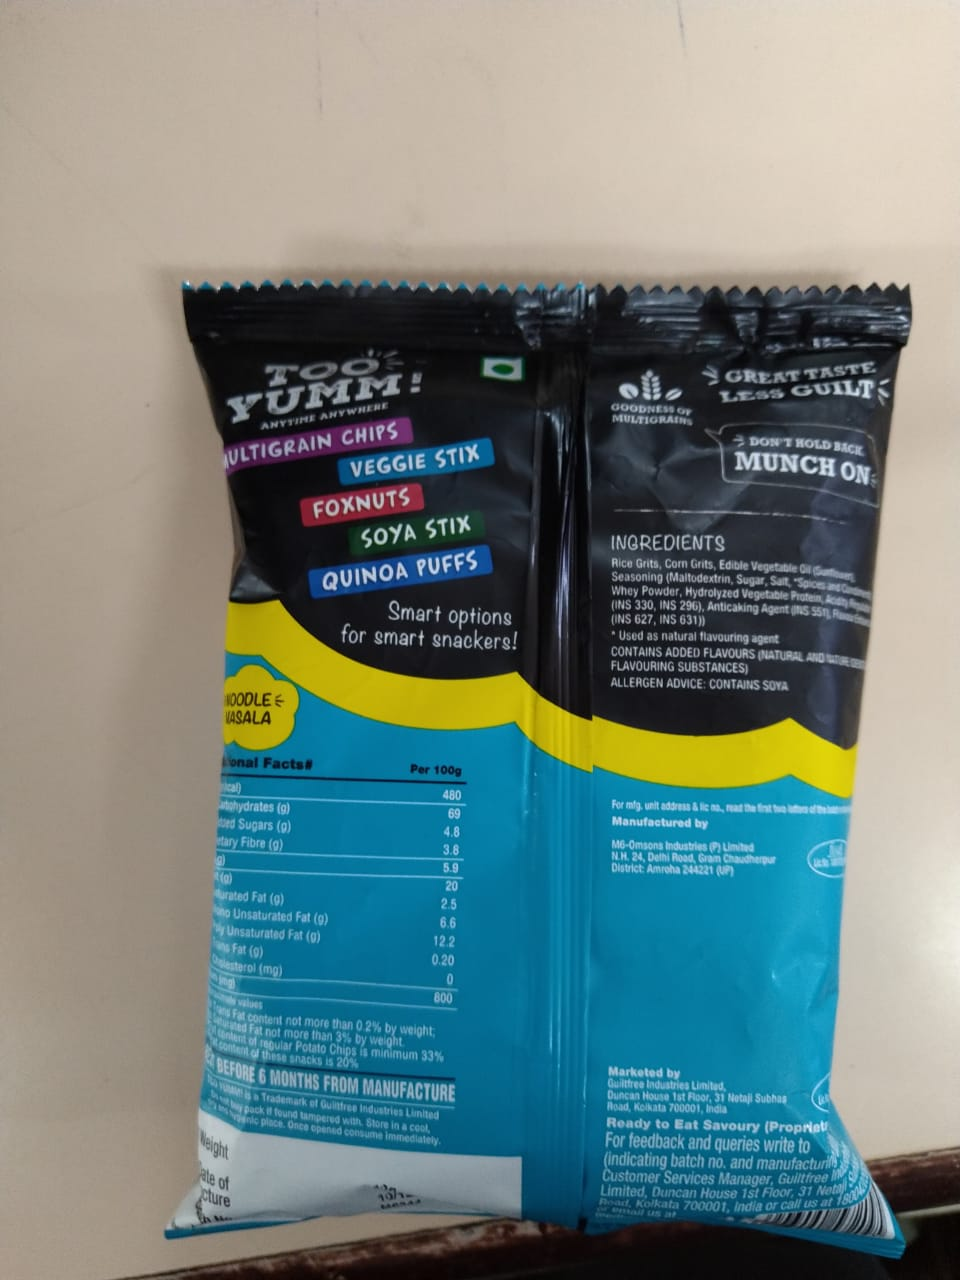plastic: (168, 258, 929, 1247)
tooyumm: (214, 313, 439, 454), (237, 346, 412, 422)
wrapper: (170, 265, 908, 1247)
